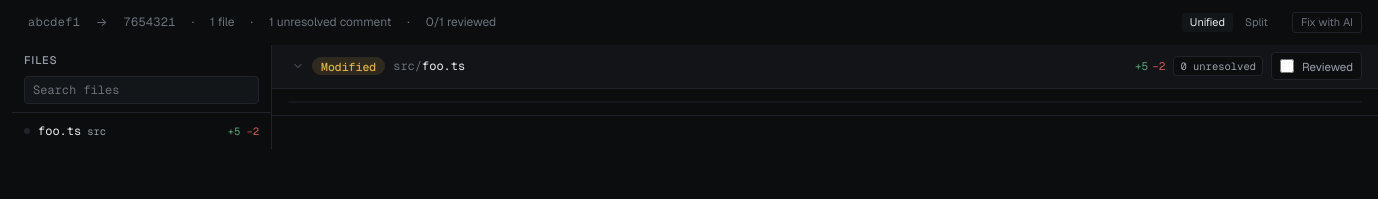
Test: ChangesTab › shows a Fix with AI error and allows retry
Click the button "Fix with AI".
click(1327, 22)  # box left=1292, top=12, right=1362, bottom=33
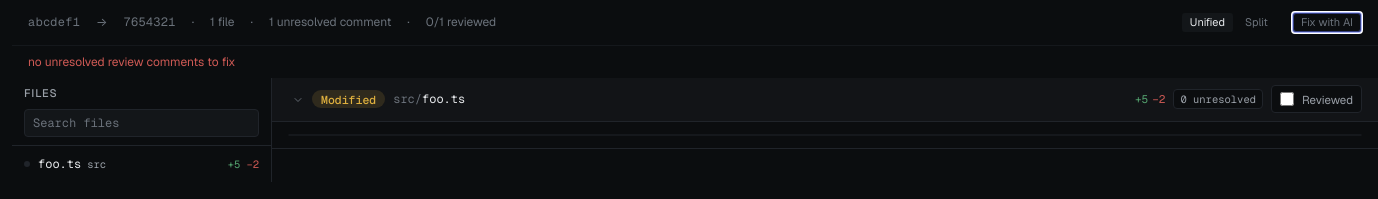
Now the message reads "no unresolved review comments to fix", box left=28, top=54, right=235, bottom=70
